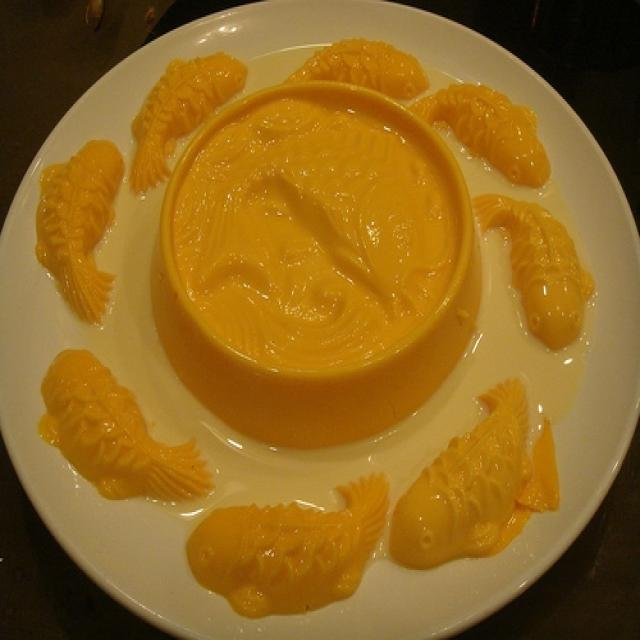蛋糕甜品: (12, 12, 627, 631)
